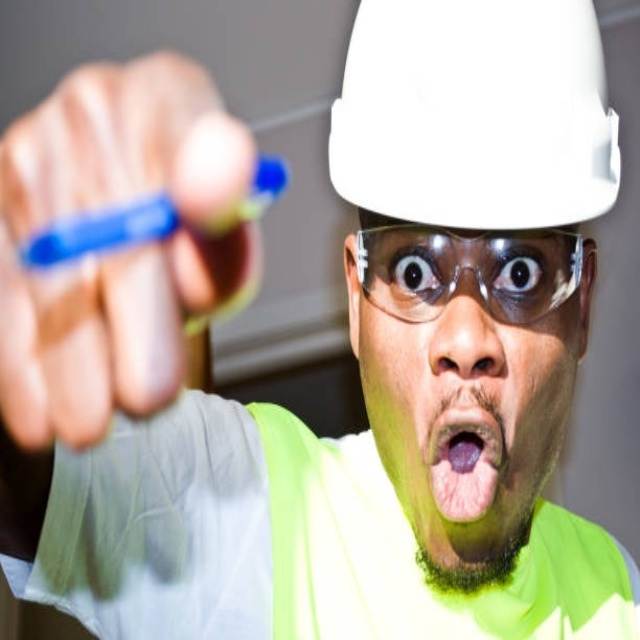Gafas: (349, 219, 588, 325)
Sin_guantes: (0, 50, 268, 456)
Sin_mascara: (403, 332, 524, 568)
